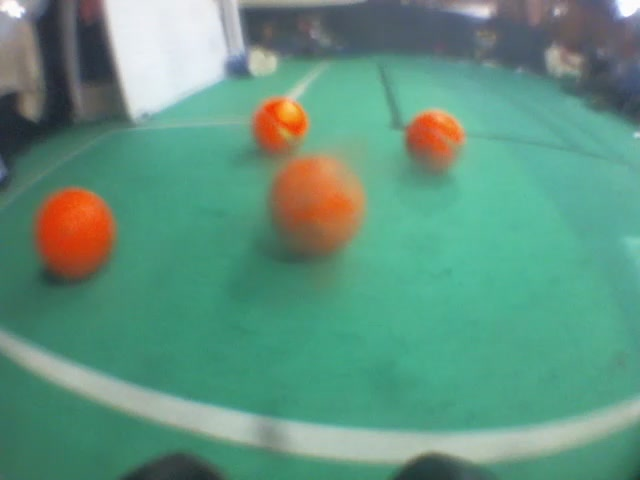ball: (258, 151, 367, 270), (25, 185, 129, 286), (395, 103, 469, 181), (243, 91, 313, 155)
